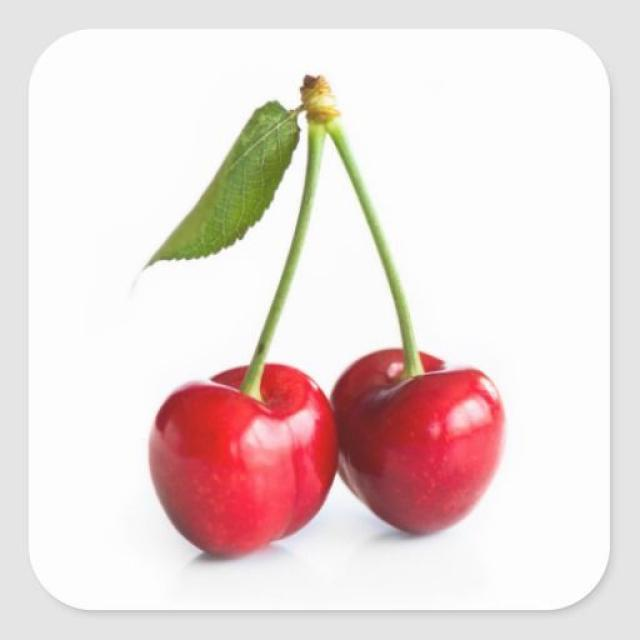cherry: (145, 70, 510, 562)
